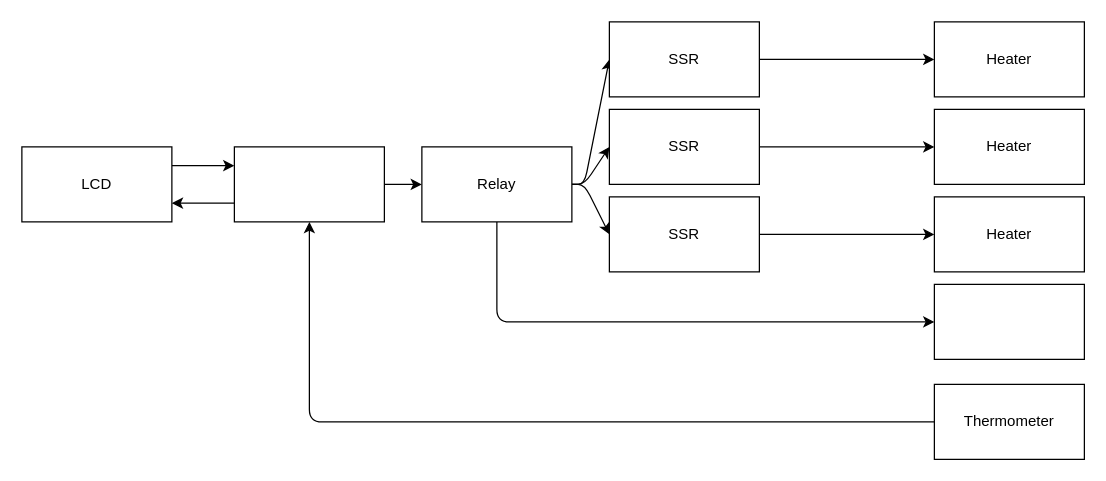
This 1106x481 diagram has some shape labels left out. Each missing label, with the centre of its shape:
"Mixer" goes at pixel 1008 321.
"Raspberry Pi Pico W" goes at pixel 308 184.
